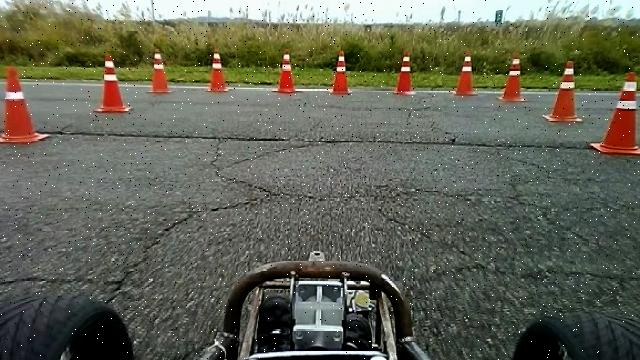red cone: (590, 71, 640, 156), (0, 64, 51, 144), (544, 59, 584, 122), (93, 54, 134, 112), (498, 55, 528, 101), (272, 48, 302, 93), (147, 48, 173, 93), (205, 48, 230, 92), (329, 49, 352, 94), (454, 53, 478, 96), (394, 49, 416, 94)
